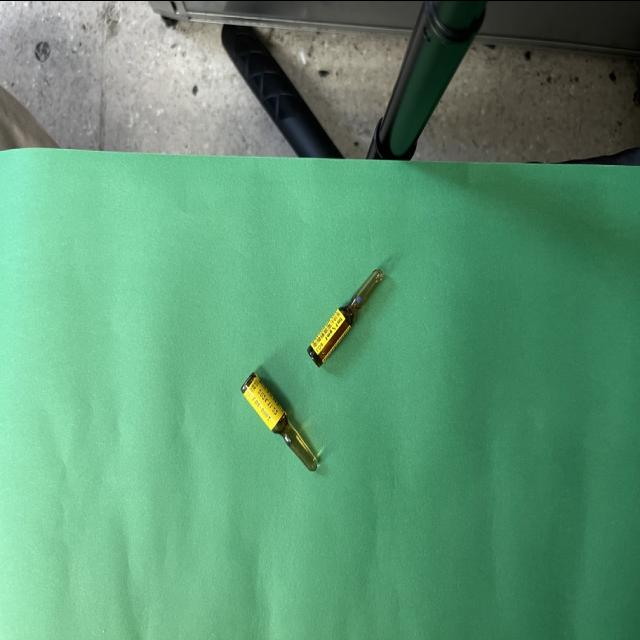Ampoules: (241, 371, 317, 470), (308, 268, 382, 366)
